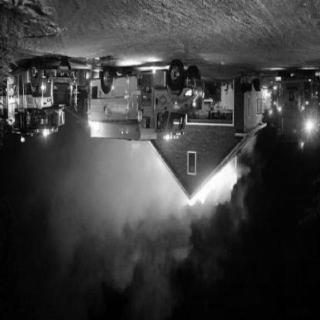Fire: (177, 153, 241, 209)
Smoke: (97, 162, 160, 245)
other: (264, 80, 282, 127), (182, 81, 206, 111), (160, 128, 181, 148), (103, 82, 120, 96), (39, 82, 44, 100)
